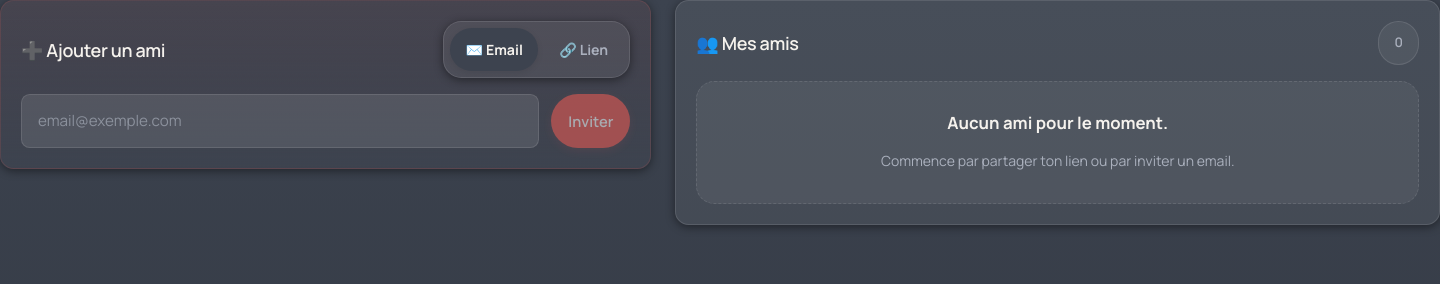
FriendsClient › invite par email → demande en attente (consentement), notice explicite
Type "new@example.com" into the field with placeholder "email@exemple.com" at {"x": 280, "y": 121}, box [21, 94, 539, 148]
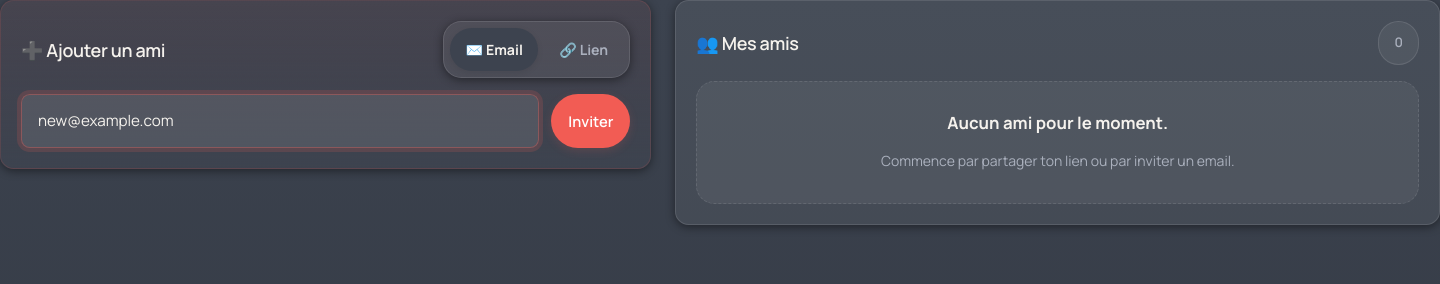
Click the button "Inviter" at {"x": 591, "y": 121}, box [551, 94, 630, 148]
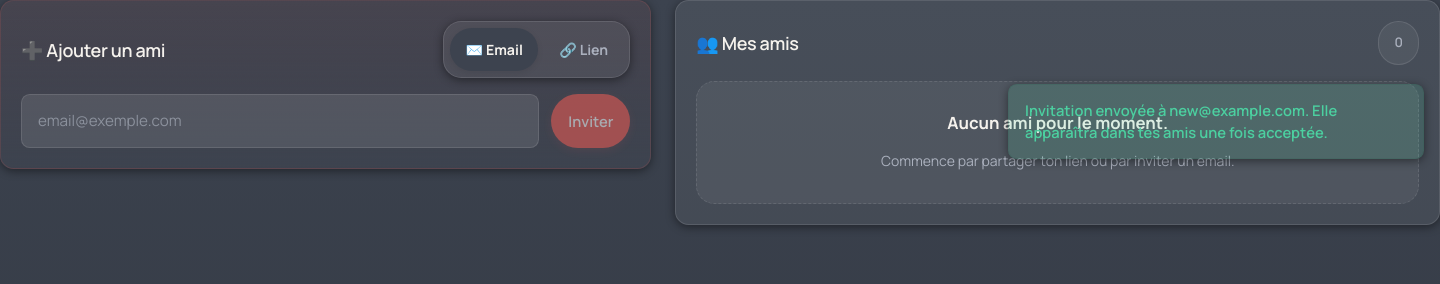
Check: the text "Aucun ami pour le moment." is shown, box [947, 110, 1168, 135]
Check: the text "Invitation envoyée à new@example.com" is shown, box [1025, 100, 1337, 142]
